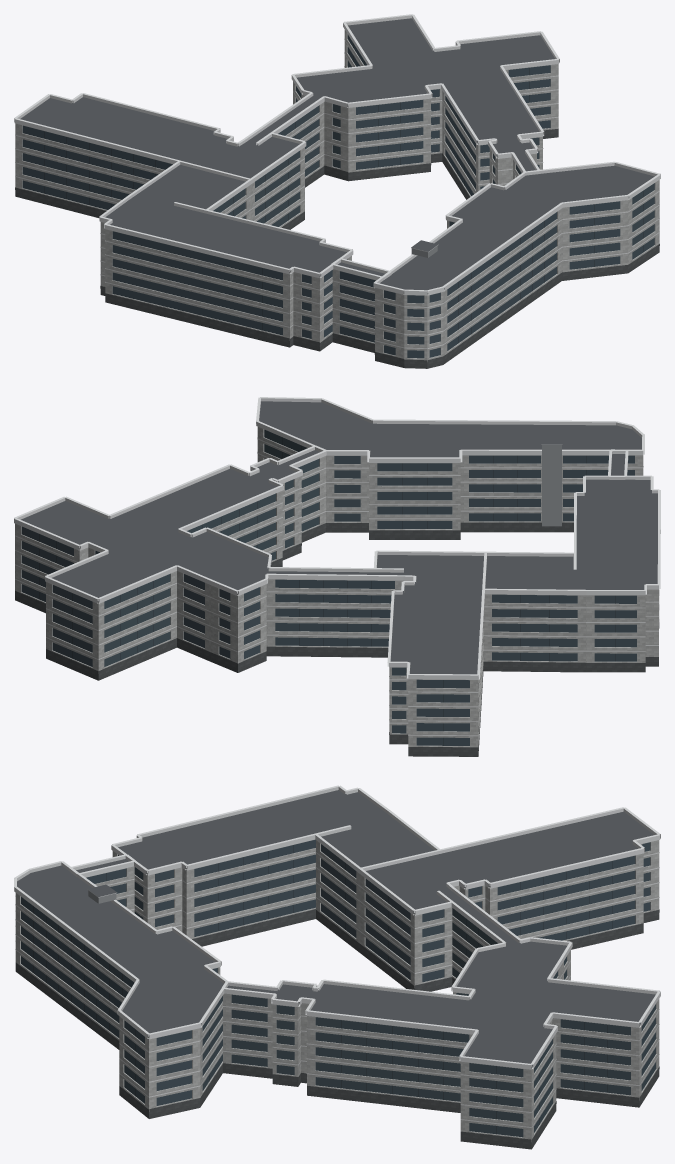
The picture shows the model from 3 angles, top to bottom: view 1: azimuth 30°, elevation 25°; view 2: azimuth 150°, elevation 25°; view 3: azimuth 270°, elevation 25°; orthographic projection. The views are drawn at different scales.
Parts seen in each view (by area): view 1: infoElec__roof, infoElec__wall, infoElec__glass, infoElec__trim, infoElec__base, infoElec__frame; view 2: infoElec__roof, infoElec__wall, infoElec__glass, infoElec__trim, infoElec__base, infoElec__wall2, infoElec__frame; view 3: infoElec__roof, infoElec__wall, infoElec__glass, infoElec__trim, infoElec__base, infoElec__frame.
Boxes of the visible parts, bbox=[...] form: infoElec__roof: bbox=[20, 18, 654, 293]; infoElec__wall: bbox=[15, 30, 659, 361]; infoElec__glass: bbox=[22, 34, 654, 358]; infoElec__trim: bbox=[14, 14, 660, 348]; infoElec__base: bbox=[15, 128, 659, 368]; infoElec__frame: bbox=[44, 43, 643, 342]; infoElec__roof: bbox=[21, 401, 657, 674]; infoElec__wall: bbox=[15, 427, 659, 749]; infoElec__glass: bbox=[21, 429, 636, 745]; infoElec__trim: bbox=[14, 397, 660, 736]; infoElec__base: bbox=[15, 522, 659, 756]; infoElec__wall2: bbox=[542, 445, 561, 526]; infoElec__frame: bbox=[39, 437, 615, 745]; infoElec__roof: bbox=[17, 790, 655, 1067]; infoElec__wall: bbox=[15, 839, 659, 1141]; infoElec__glass: bbox=[21, 839, 655, 1137]; infoElec__trim: bbox=[14, 785, 660, 1127]; infoElec__base: bbox=[15, 909, 659, 1149]; infoElec__frame: bbox=[33, 845, 612, 1133].
Bounding box in the file's own units: 152 × 23.4 × 149.
Materials: 7 (2 with a texture image).
